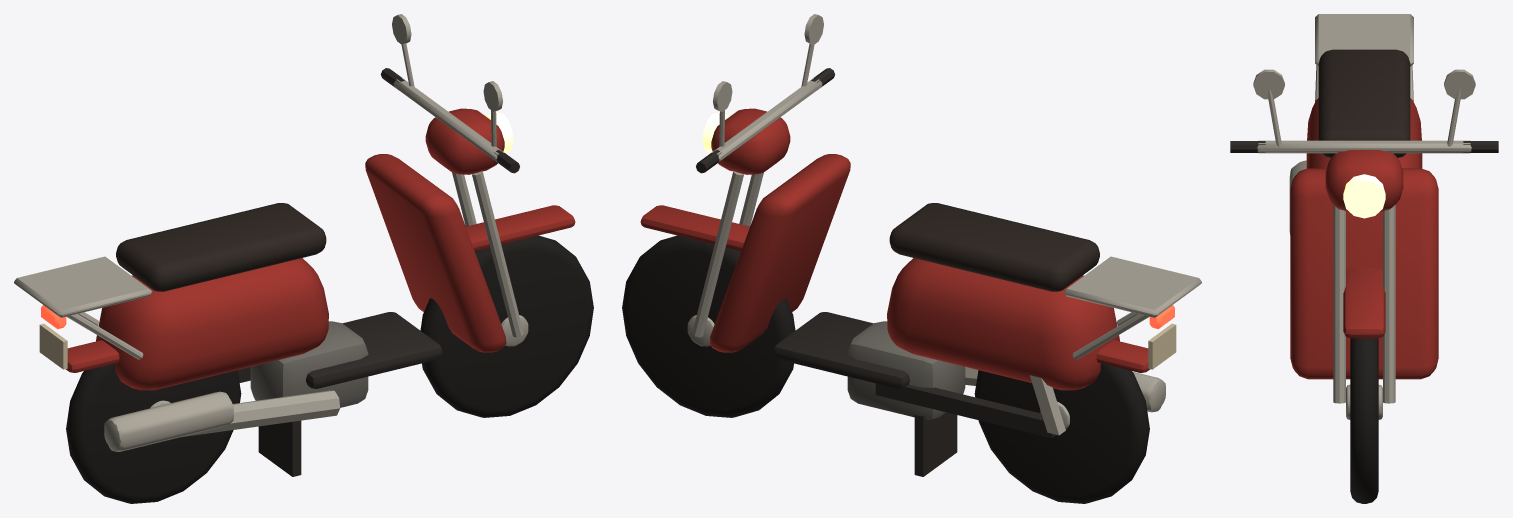
The model's file is motorbike_cub_red.glb.
3 renders of one model, left to right at view 1: azimuth 30°, elevation 25°; view 2: azimuth 150°, elevation 25°; view 3: azimuth 270°, elevation 25°, orthographic. The views are drawn at different scales.
Visible parts, largest first — view 1: MotoCub, MotoCub_Wheel_F, MotoCub_Wheel_R; view 2: MotoCub, MotoCub_Wheel_F, MotoCub_Wheel_R; view 3: MotoCub, MotoCub_Wheel_F.
Boxes of the visible parts, box(x1,y1,x2,y2) form: MotoCub: box(14, 14, 575, 476); MotoCub_Wheel_F: box(420, 235, 593, 417); MotoCub_Wheel_R: box(66, 363, 241, 503); MotoCub: box(640, 14, 1201, 476); MotoCub_Wheel_F: box(622, 235, 795, 417); MotoCub_Wheel_R: box(974, 363, 1149, 503); MotoCub: box(1230, 14, 1498, 403); MotoCub_Wheel_F: box(1346, 338, 1382, 503).
Size of the model in its own units: 1.89 by 1.23 by 0.76.
